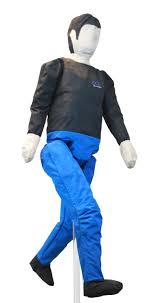stop: (18, 12, 138, 293)
